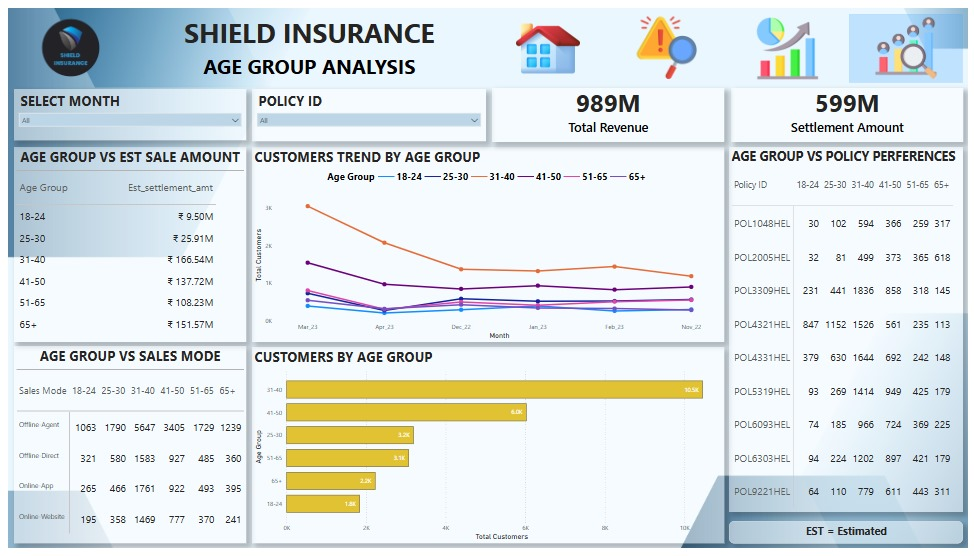

This screenshot's page, from the dashboard's own definition file:
{"tool":"powerbi","page":{"name":"AGE GROUP ANALYSIS","canvas":[1920,1080],"ordinal":3},"visuals":[{"type":"card","fields":{"Values":["Sum(dim_customer.Est_settlement_amt)"]},"box":[1445,160,465,108],"z":1000},{"type":"tableEx","title":"AGE GROUP VS EST SALE AMOUNT","fields":{"Values":["Age_Group_Table.Age Group","Sum(dim_customer.Est_settlement_amt)"]},"box":[12.5,277.5,465,390],"z":2000},{"type":"lineChart","title":"CUSTOMERS TREND BY AGE GROUP","fields":{"Category":["dim_date.mmm_yy"],"Series":["dim_customer.Age Group"],"Y":["DAX Measures.Total Customers"]},"box":[487.5,277.5,945,390],"z":3000},{"type":"pivotTable","title":"AGE GROUP VS SALES MODE","fields":{"Rows":["fact_premiums.sales_mode"],"Columns":["dim_customer.Age Group"],"Values":["CountNonNull(dim_customer.customer_code)"]},"box":[12.5,675,465,395],"z":4000},{"type":"clusteredBarChart","title":"CUSTOMERS BY AGE GROUP","fields":{"Category":["dim_customer.Age Group"],"Y":["DAX Measures.Total Customers"]},"box":[487.5,677.5,945,392.5],"z":5000},{"type":"pivotTable","title":"AGE GROUP VS POLICY PERFERENCES","fields":{"Rows":["dim_policies.policy_id"],"Columns":["dim_customer.Age Group"],"Values":["CountNonNull(dim_customer.customer_code)"]},"box":[1442.5,277.5,467.5,730],"z":6000},{"type":"slicer","fields":{"Values":["dim_date.mmm_yy"]},"box":[12.5,162.5,465,102.5],"z":7000},{"type":"slicer","fields":{"Values":["dim_policies.policy_id"]},"box":[487.5,162.5,467.5,105],"z":8000},{"type":"image","box":[12.5,12.5,227.5,135],"z":9000},{"type":"image","box":[965,12.5,227.5,137.5],"z":10000},{"type":"shape","box":[1682.5,12.5,227.5,137.5],"z":11000},{"type":"image","box":[1681.4,9.3,227.9,139.5],"z":12000},{"type":"image","box":[1202.5,12.5,230,135],"z":13000},{"type":"textbox","title":"SHIELD INSURANCE ","box":[250,12.5,705,137.5],"z":14000},{"type":"textbox","title":"EST = Estimated","box":[1442.5,1025,467.5,45],"z":15000},{"type":"card","fields":{"Values":["DAX Measures.Total Revenue"]},"box":[967,160,465,108],"z":16000},{"type":"image","box":[1445,12.5,225,137.5],"z":17000}]}

Visuals, with their boxes in screenshot pixels (x1, y1, x2, y2), scaled from the page's 1920x1080 canvas onto the 974x556 screenshot:
card - Sum(dim_customer.Est_settlement_amt): [left=733, top=82, right=969, bottom=138]
"AGE GROUP VS EST SALE AMOUNT" tableEx: [left=6, top=143, right=242, bottom=344]
"CUSTOMERS TREND BY AGE GROUP" lineChart: [left=247, top=143, right=727, bottom=344]
"AGE GROUP VS SALES MODE" pivotTable: [left=6, top=348, right=242, bottom=551]
"CUSTOMERS BY AGE GROUP" clusteredBarChart: [left=247, top=349, right=727, bottom=551]
"AGE GROUP VS POLICY PERFERENCES" pivotTable: [left=732, top=143, right=969, bottom=519]
slicer - dim_date.mmm_yy: [left=6, top=84, right=242, bottom=136]
slicer - dim_policies.policy_id: [left=247, top=84, right=484, bottom=138]
image: [left=6, top=6, right=122, bottom=76]
image: [left=490, top=6, right=605, bottom=77]
shape: [left=854, top=6, right=969, bottom=77]
image: [left=853, top=5, right=969, bottom=77]
image: [left=610, top=6, right=727, bottom=76]
"SHIELD INSURANCE " textbox: [left=127, top=6, right=484, bottom=77]
"EST = Estimated" textbox: [left=732, top=528, right=969, bottom=551]
card - DAX Measures.Total Revenue: [left=491, top=82, right=726, bottom=138]
image: [left=733, top=6, right=847, bottom=77]
